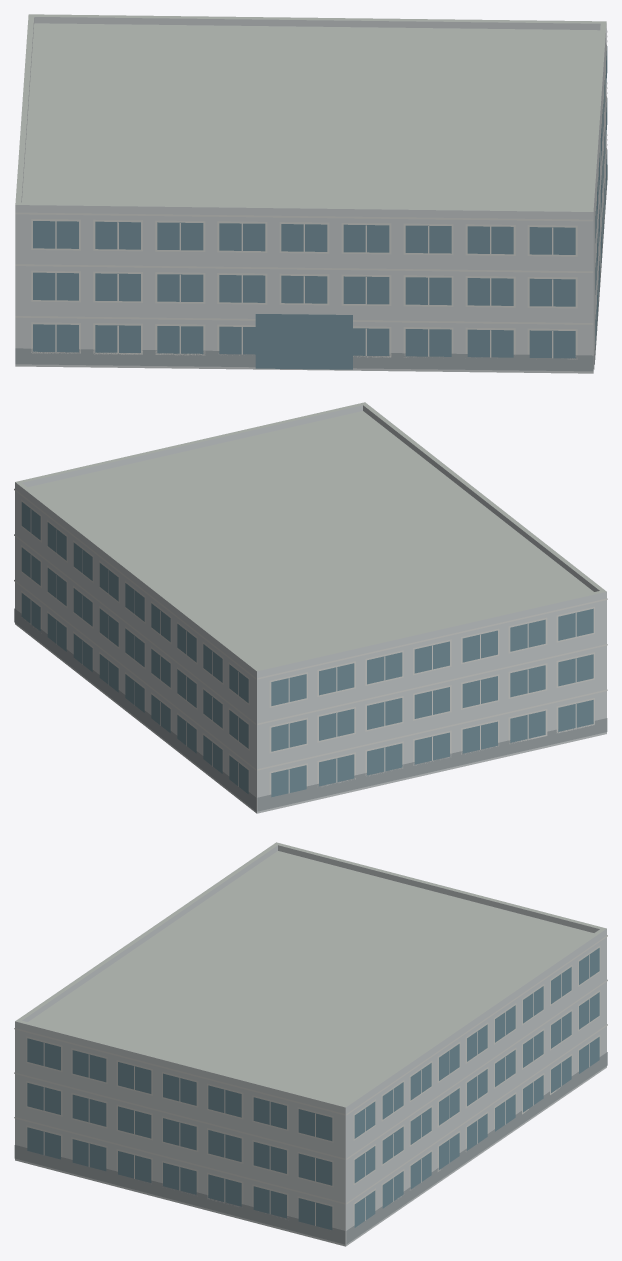
File: public-dcc26cec-302f-49e4-8652-8f1a921519be.glb
3 views of the same model, one above another, from view 1: azimuth 30°, elevation 25°; view 2: azimuth 150°, elevation 25°; view 3: azimuth 270°, elevation 25° (orthographic). The views are drawn at different scales.
Parts seen in each view (by area): view 1: public-dcc26cec-302f-49e4-8652-8f1a921519be; view 2: public-dcc26cec-302f-49e4-8652-8f1a921519be; view 3: public-dcc26cec-302f-49e4-8652-8f1a921519be.
Part boxes in pixels (left/top/right/bottom): public-dcc26cec-302f-49e4-8652-8f1a921519be: left=15, top=14, right=607, bottom=373; public-dcc26cec-302f-49e4-8652-8f1a921519be: left=14, top=402, right=607, bottom=813; public-dcc26cec-302f-49e4-8652-8f1a921519be: left=14, top=842, right=607, bottom=1246.
Bounding box in the file's own units: 37.55 × 9.15 × 35.42.
